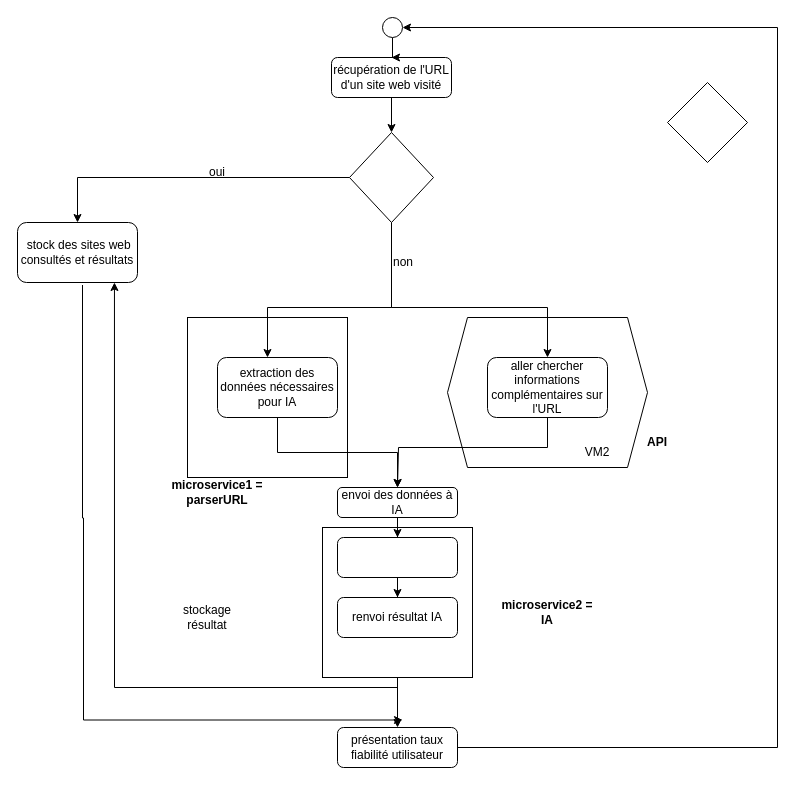
Some shapes in this 803 by 785 pixel diagram are drawn without their labels. Here are the shapes that lost their labels. From the top down, the box of each, then its label:
(666, 82, 748, 162): profil user
(348, 132, 434, 222): test : site déjà consulté ou non ?
(336, 536, 458, 578): traitement IA
